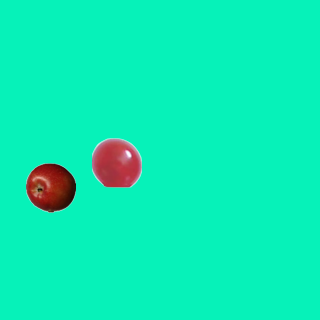Apple Braeburn: (25, 162, 75, 212)
Redcurrant: (91, 137, 141, 187)
